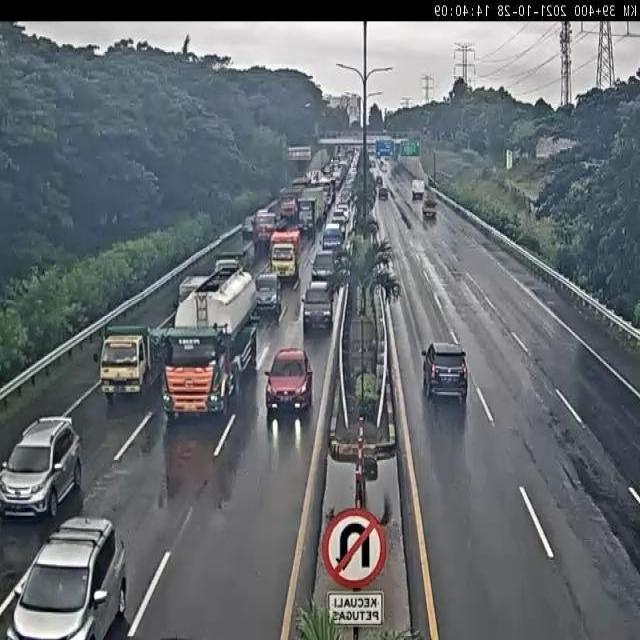Car: (7, 515, 126, 638), (0, 414, 82, 518), (264, 347, 315, 417), (421, 341, 468, 404), (302, 281, 334, 332), (254, 271, 283, 319), (312, 250, 337, 284), (331, 205, 349, 231), (422, 194, 437, 218), (411, 179, 425, 200), (378, 181, 388, 200)
Truck: (164, 267, 260, 418), (100, 324, 165, 400), (269, 228, 301, 283), (298, 188, 325, 235), (253, 208, 278, 252), (277, 190, 303, 230)
Van: (322, 222, 343, 250)
